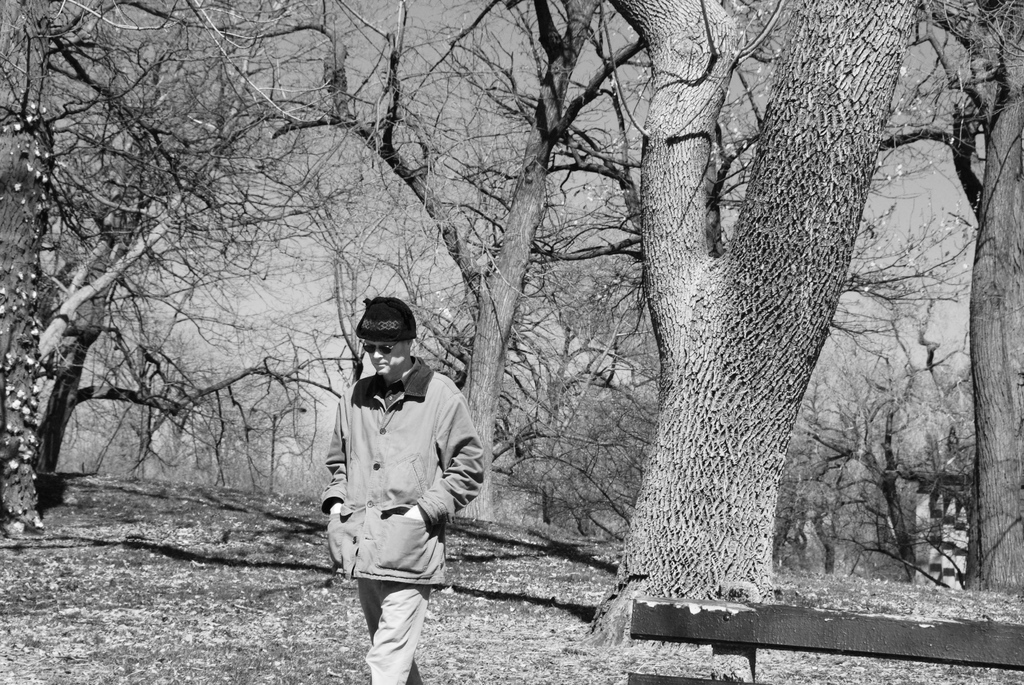Tree: (0, 0, 1023, 684), (15, 42, 302, 553)
